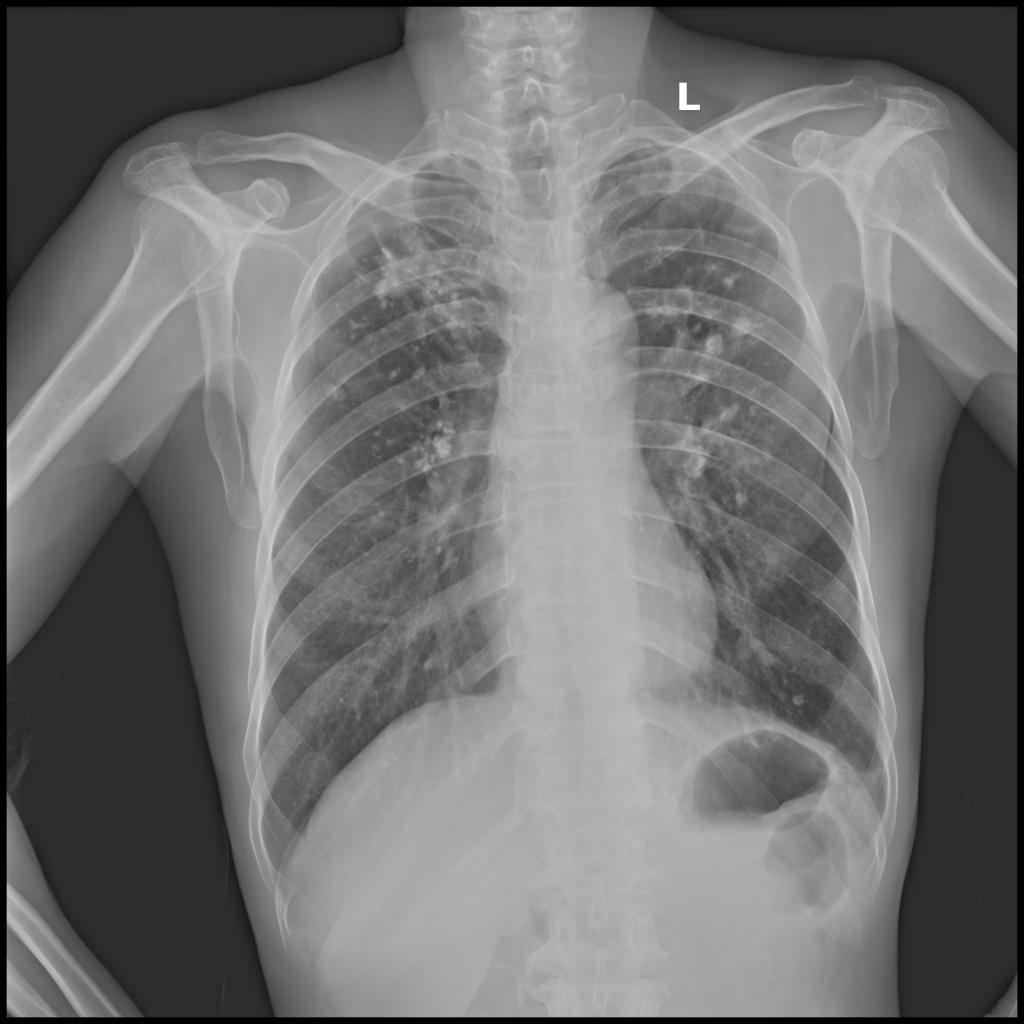Nodule: (750, 637, 776, 667), (792, 694, 806, 705)
